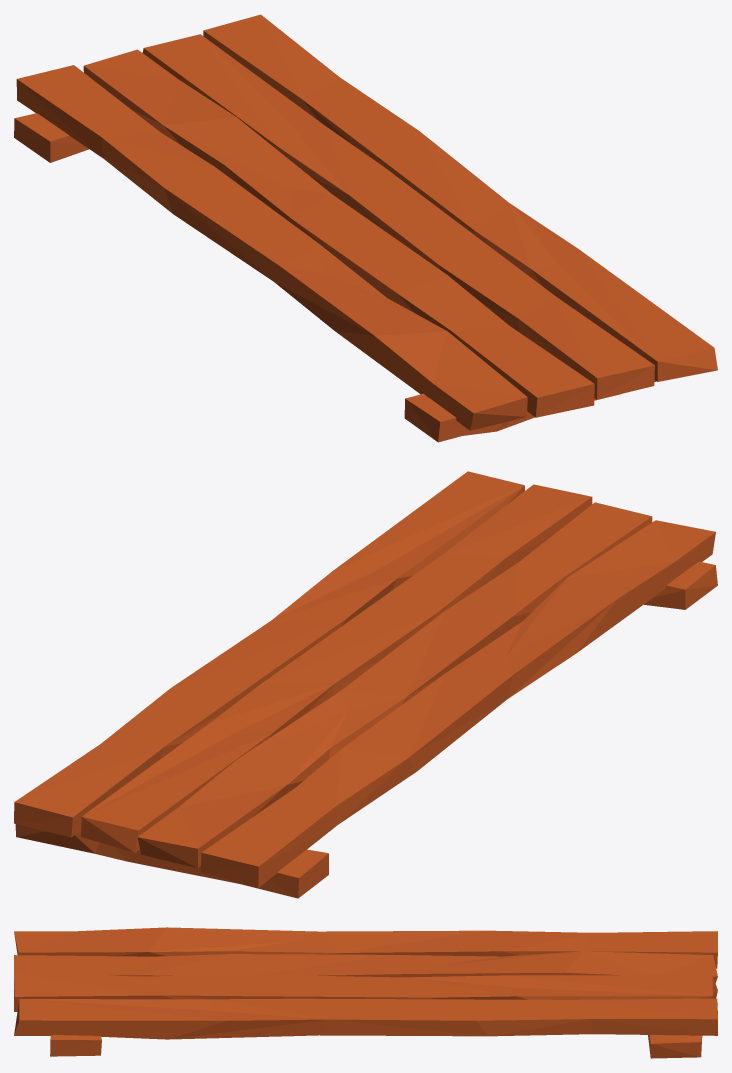
The model's file is Bridge_02.fbx.
The picture shows the model from 3 angles, top to bottom: view 1: azimuth 30°, elevation 25°; view 2: azimuth 150°, elevation 25°; view 3: azimuth 270°, elevation 25°; orthographic projection. The views are drawn at different scales.
Visible parts, largest first — view 1: Bridge_02_B, Bridge_02_A; view 2: Bridge_02_B, Bridge_02_A; view 3: Bridge_02_B, Bridge_02_A.
Boxes of the visible parts, <box> form: Bridge_02_B: <box>14,14,578,358</box>; Bridge_02_A: <box>372,249,717,442</box>; Bridge_02_B: <box>14,555,616,898</box>; Bridge_02_A: <box>332,471,717,625</box>; Bridge_02_B: <box>138,927,717,1058</box>; Bridge_02_A: <box>14,927,229,1056</box>.
Size of the model in its own units: 231 by 36.74 by 653.
